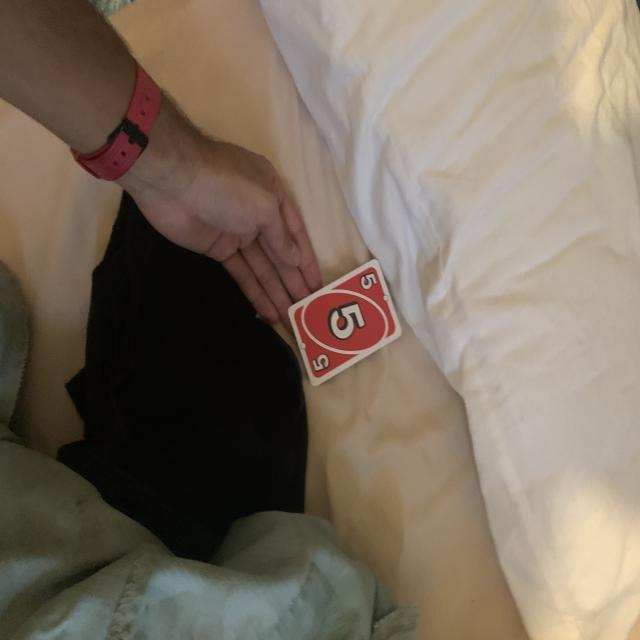lred-5: (356, 267, 378, 297)
